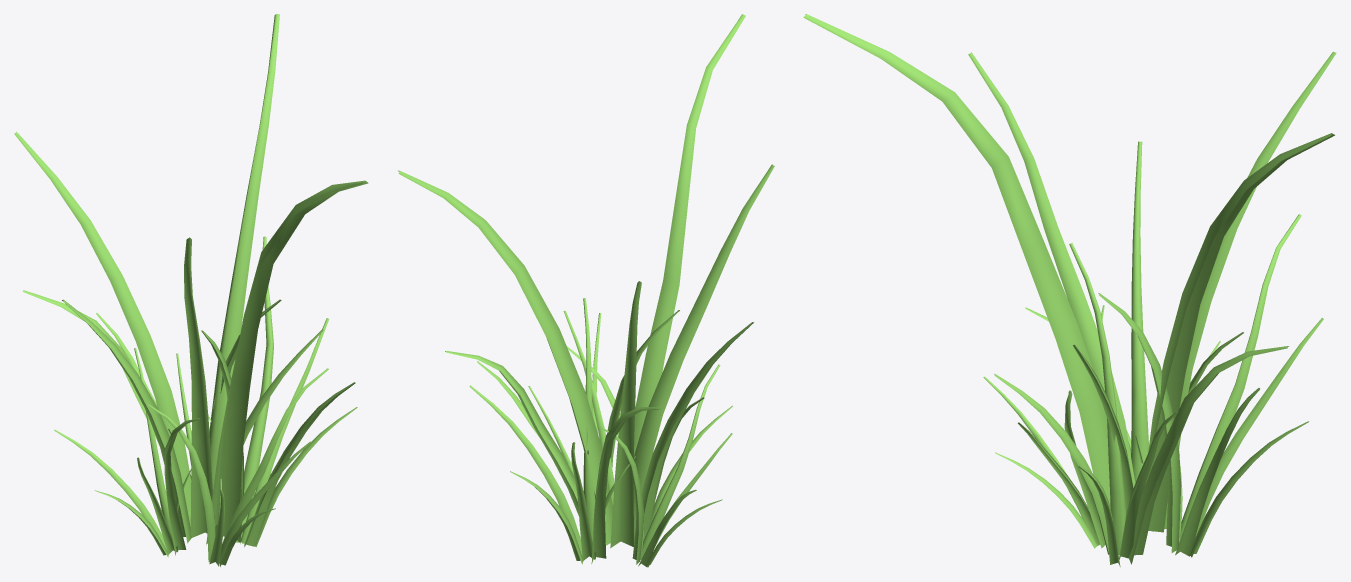
Rendered from grass.fbx.
3 views of the same model, side by side, from view 1: azimuth 30°, elevation 25°; view 2: azimuth 150°, elevation 25°; view 3: azimuth 270°, elevation 25° (orthographic). The views are drawn at different scales.
Visible parts, largest first — view 1: Plane.008; view 2: Plane.008; view 3: Plane.008.
Boxes of the visible parts, x1,y1,x2,y2 form: Plane.008: (14, 14, 368, 566); Plane.008: (398, 14, 774, 567); Plane.008: (803, 14, 1336, 567).
Bounding box in the file's own units: 300 × 451 × 402.
